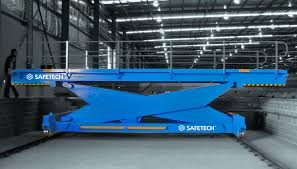Scissor Lift: (10, 39, 289, 138)
